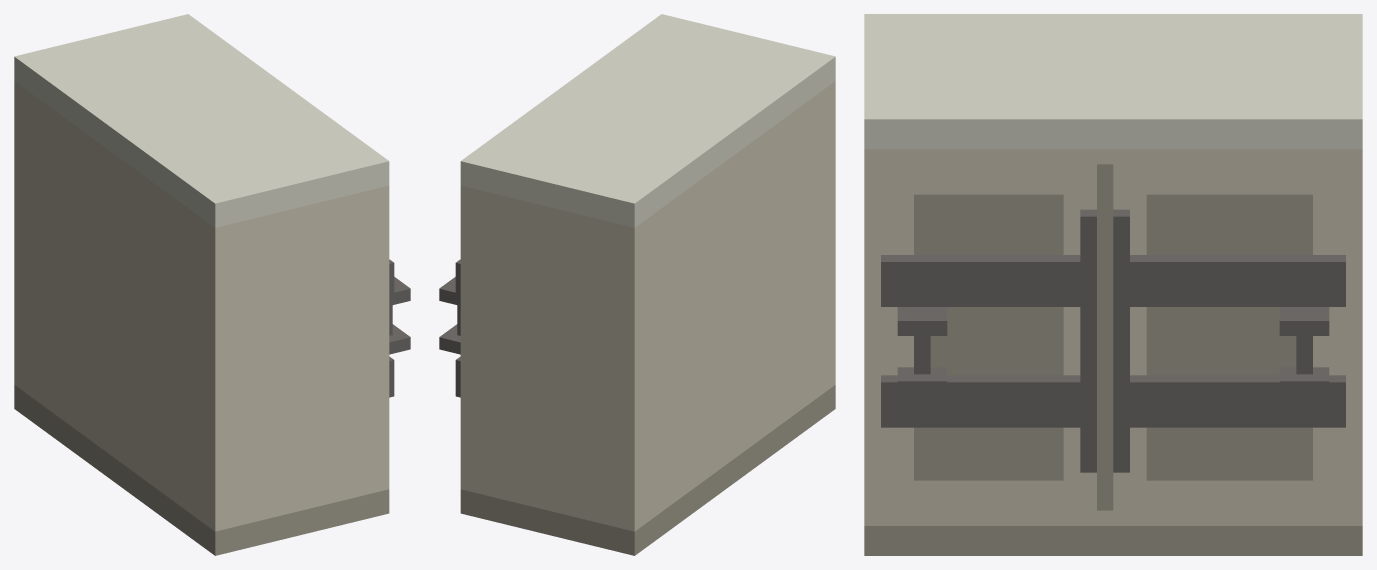
File: armario_ropa_abedul_01.glb
3 views of the same model, side by side, from view 1: azimuth 30°, elevation 25°; view 2: azimuth 150°, elevation 25°; view 3: azimuth 270°, elevation 25° (orthographic). The views are drawn at different scales.
Parts seen in each view (by area): view 1: armario_ropa_abedul; view 2: armario_ropa_abedul; view 3: armario_ropa_abedul.
Part boxes in pixels (x1=…): armario_ropa_abedul: x1=14, y1=14, x2=410, y2=555; armario_ropa_abedul: x1=439, y1=14, x2=835, y2=555; armario_ropa_abedul: x1=864, y1=14, x2=1362, y2=555.
Size of the model in its own units: 1.2 by 1.93 by 2.
